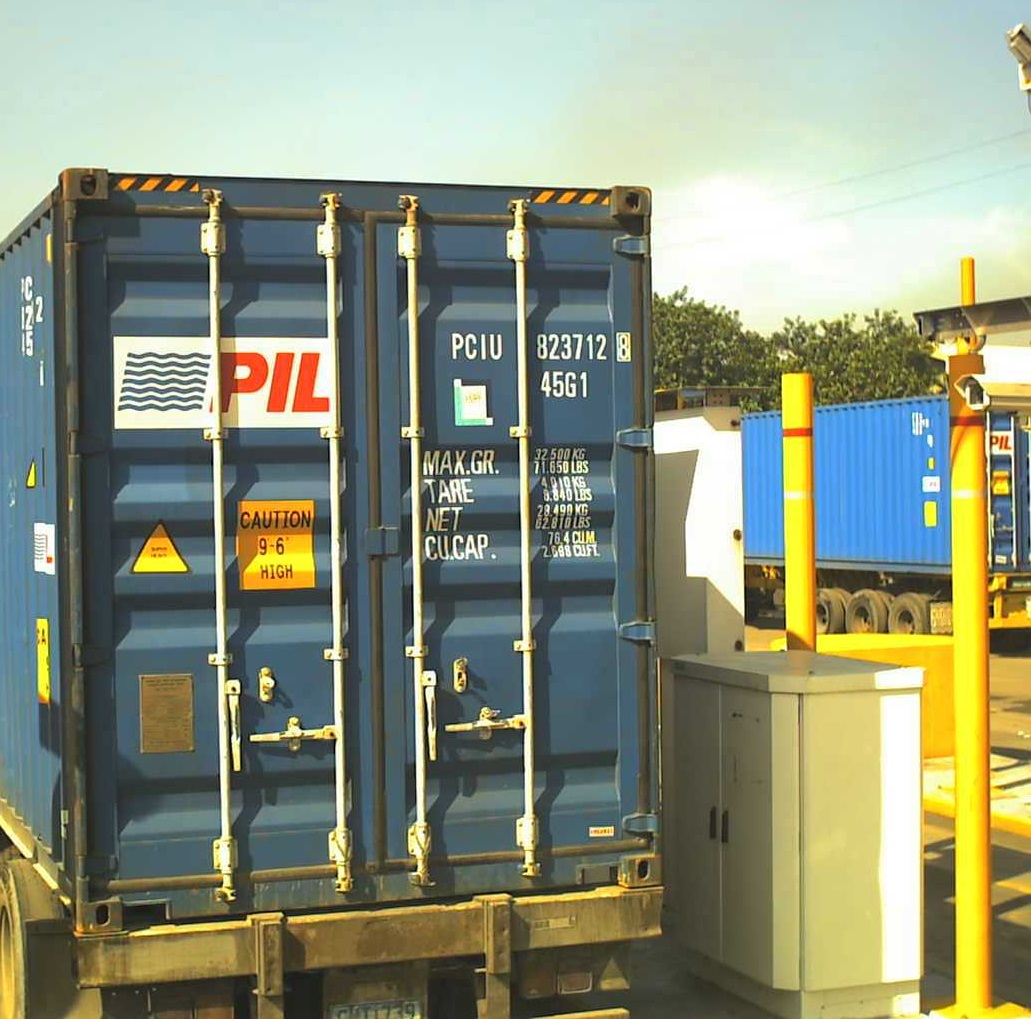container_door: (59, 160, 664, 934)
